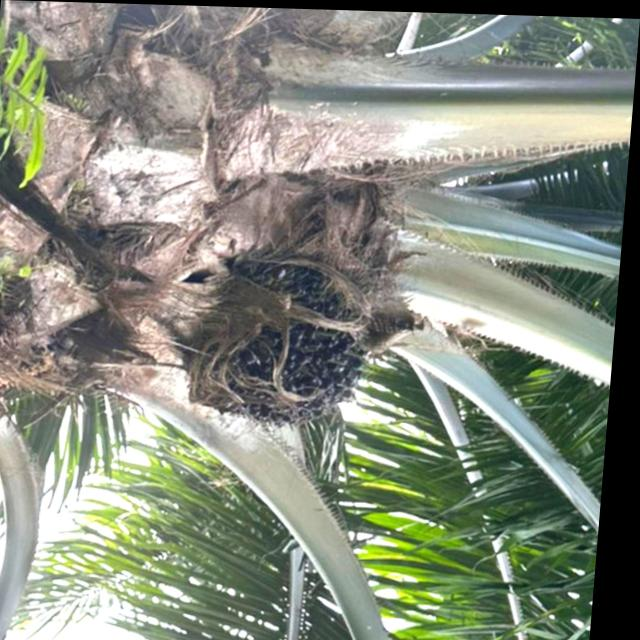unripe: (190, 243, 392, 431)
